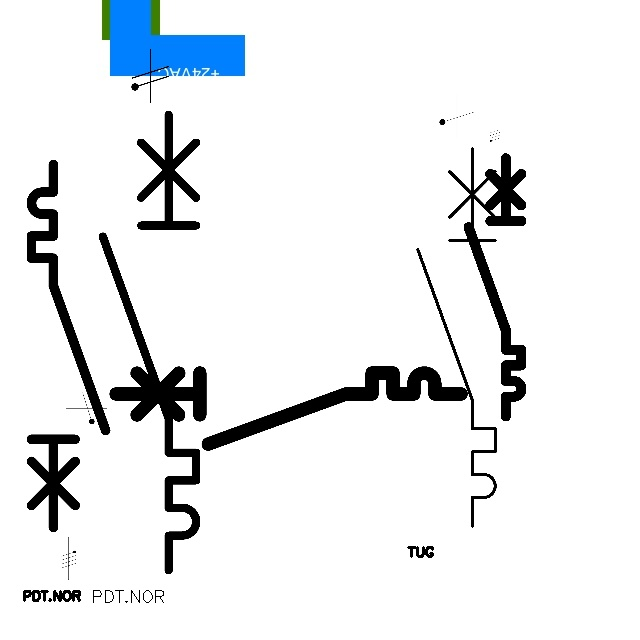interruptor_termomagnetico: (91, 103, 208, 582), (408, 138, 505, 535), (22, 155, 115, 537), (107, 364, 470, 452), (462, 151, 528, 422)
